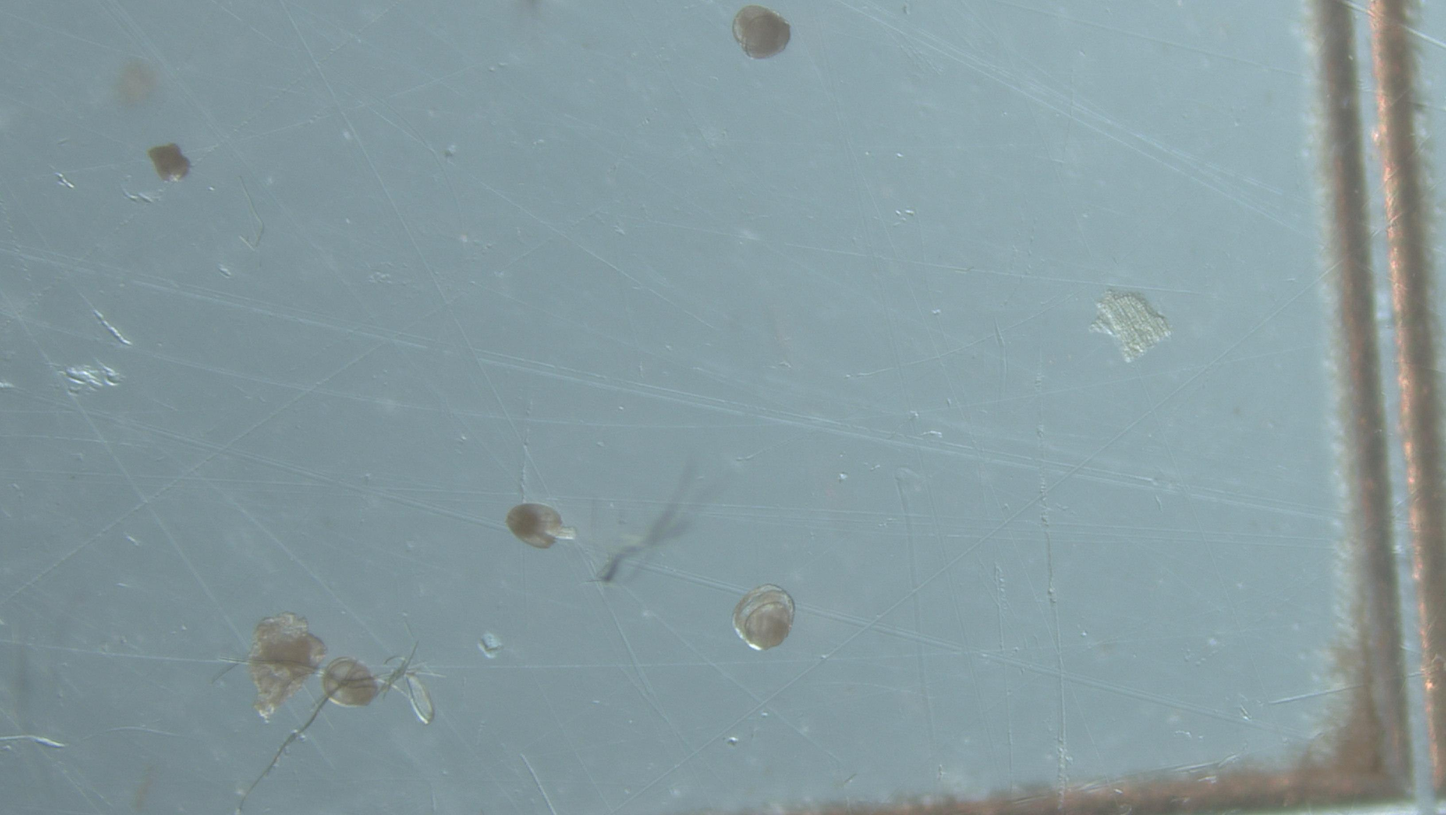live: (732, 585, 796, 651), (731, 5, 791, 59), (506, 503, 577, 548)
